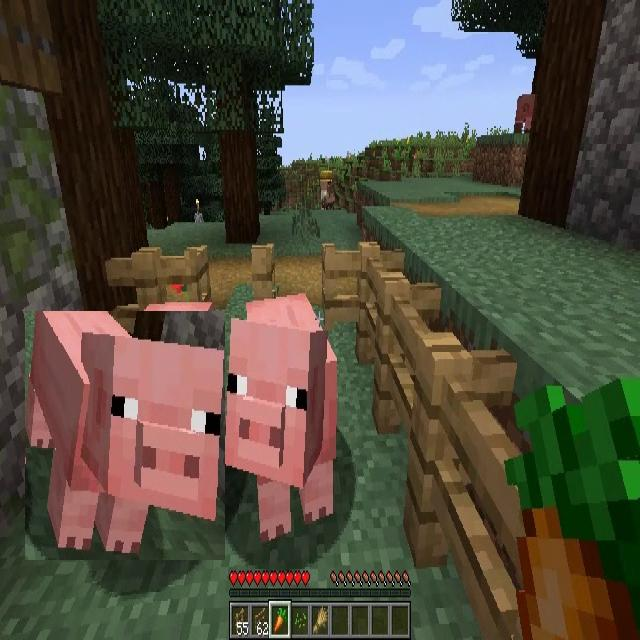pig: (25, 311, 225, 560), (223, 302, 339, 536)
